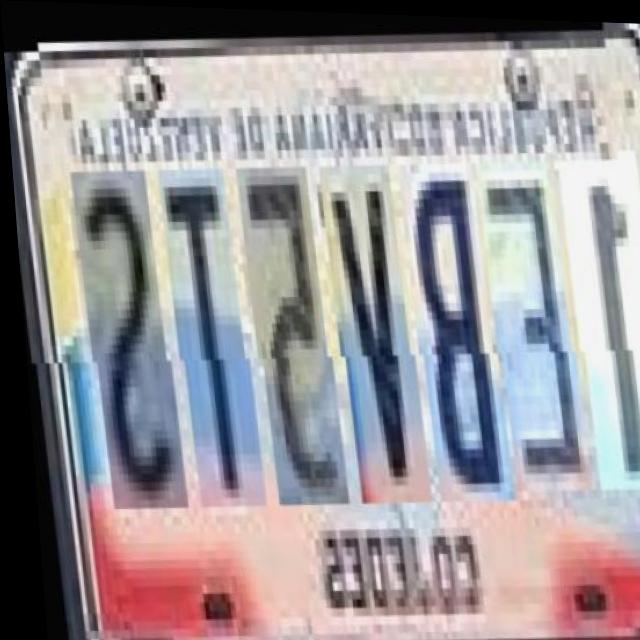1: (554, 152, 640, 487)
5: (231, 158, 333, 501)
b: (392, 154, 498, 497)
e: (472, 154, 578, 488)
s: (66, 161, 172, 504)
t: (154, 160, 250, 501)
v: (315, 156, 416, 499)
